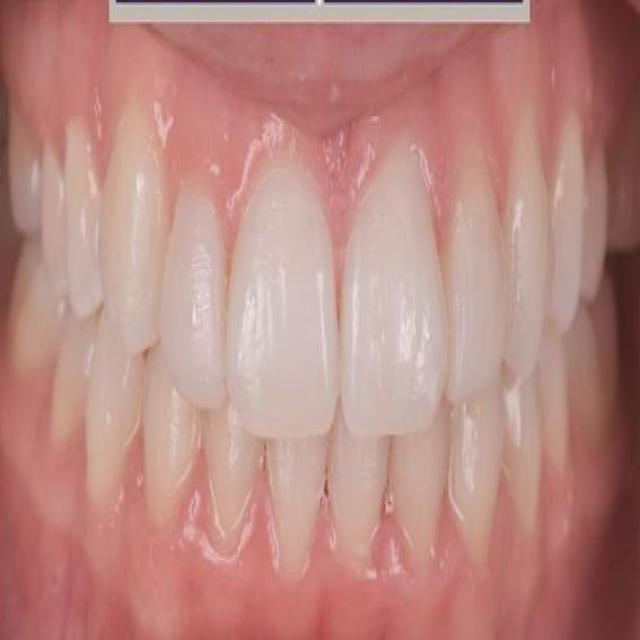1st Molar: (569, 276, 619, 458), (9, 235, 61, 368), (6, 107, 42, 233)
1st Premolar: (87, 303, 146, 512), (547, 112, 586, 332), (63, 119, 102, 318), (504, 373, 543, 538)
2nd Premolar: (48, 308, 95, 453), (537, 322, 572, 475), (587, 145, 611, 298), (41, 150, 64, 291)
Canine: (100, 99, 166, 356), (500, 121, 550, 381), (141, 347, 204, 538), (449, 395, 505, 577)
Central Incisor: (339, 141, 448, 436), (227, 165, 339, 439), (330, 417, 392, 575), (265, 436, 327, 587)
Lateral Incisor: (446, 158, 508, 405), (160, 187, 227, 412), (204, 405, 264, 558), (392, 417, 449, 575)
